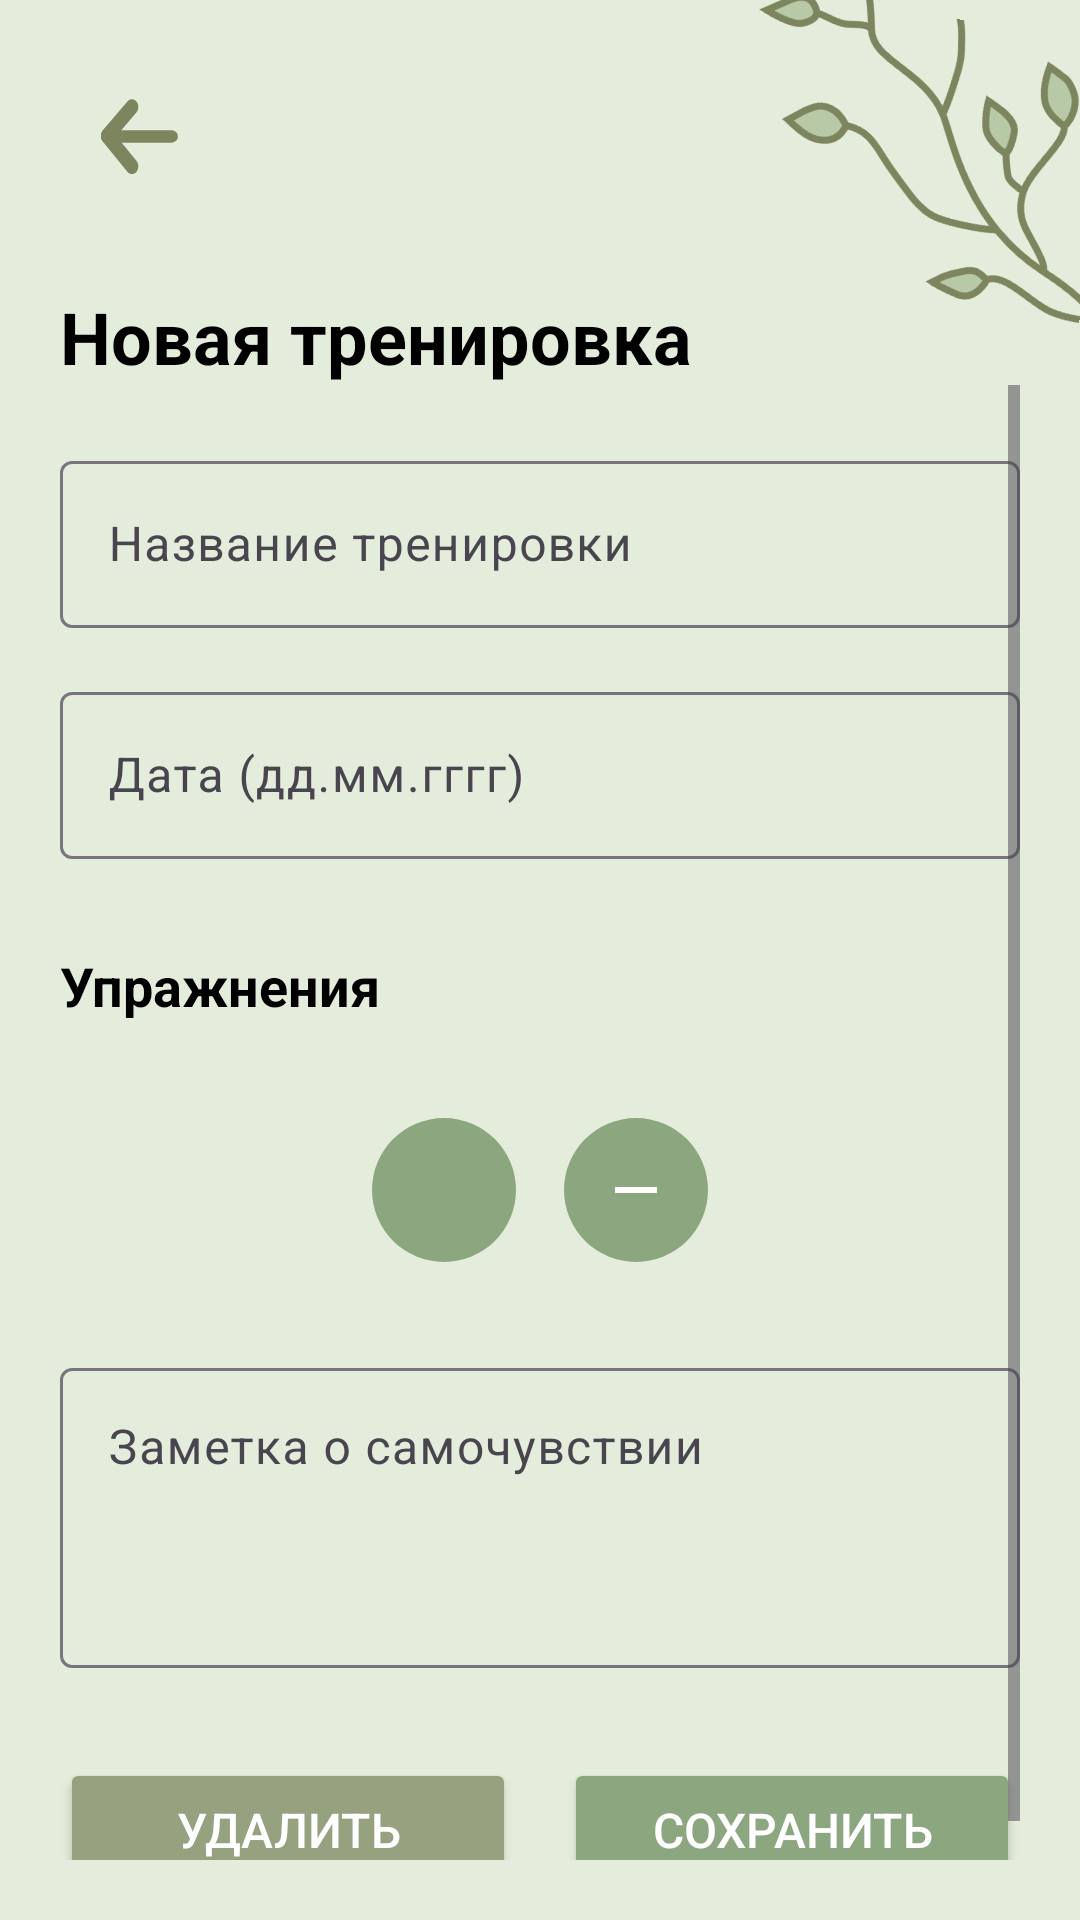

Icon bounding boxes for this 1080*1920 phone screenshot, format box(x1, y1, x2, y2):
back: box(101, 99, 178, 174)
Удалить упражнение: box(564, 1118, 708, 1262)
